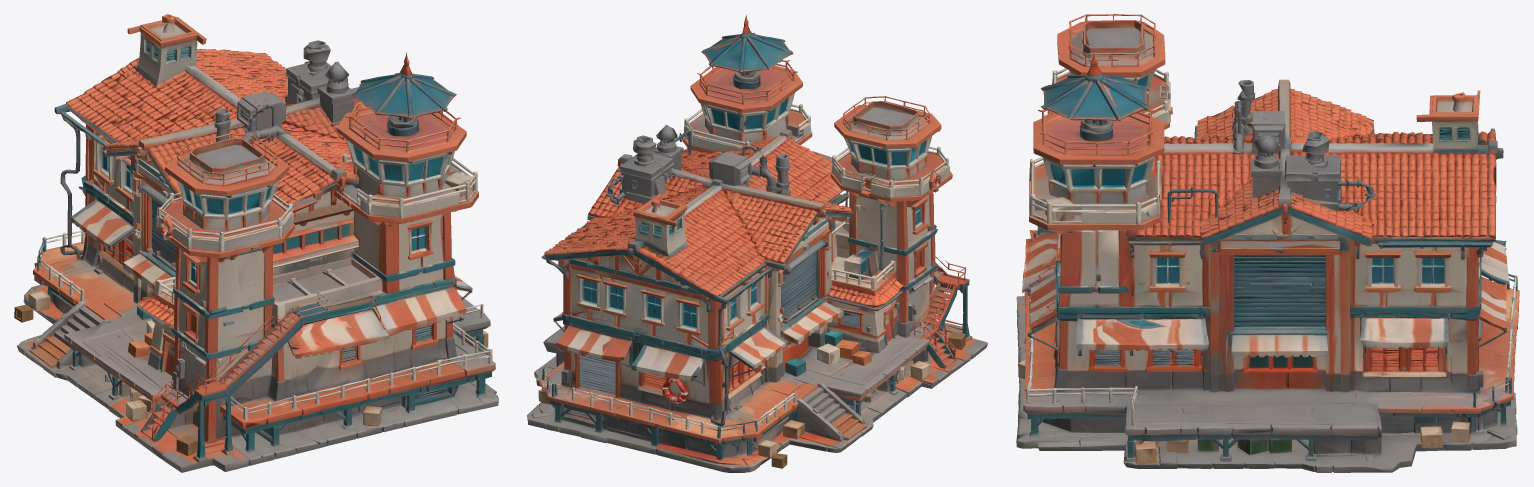
File: harbor-hq-decimated.glb
The picture shows the model from 3 angles, left to right: view 1: azimuth 30°, elevation 25°; view 2: azimuth 150°, elevation 25°; view 3: azimuth 270°, elevation 25°; orthographic projection. The views are drawn at different scales.
Parts seen in each view (by area): view 1: model; view 2: model; view 3: model.
Part boxes in pixels (x1,y1,x2,y2): model: (14,14,498,472); model: (527,15,987,472); model: (1016,14,1519,472).
Bounding box in the file's own units: 1.61 × 1.47 × 1.82.
Materials: 1 (1 with a texture image).
